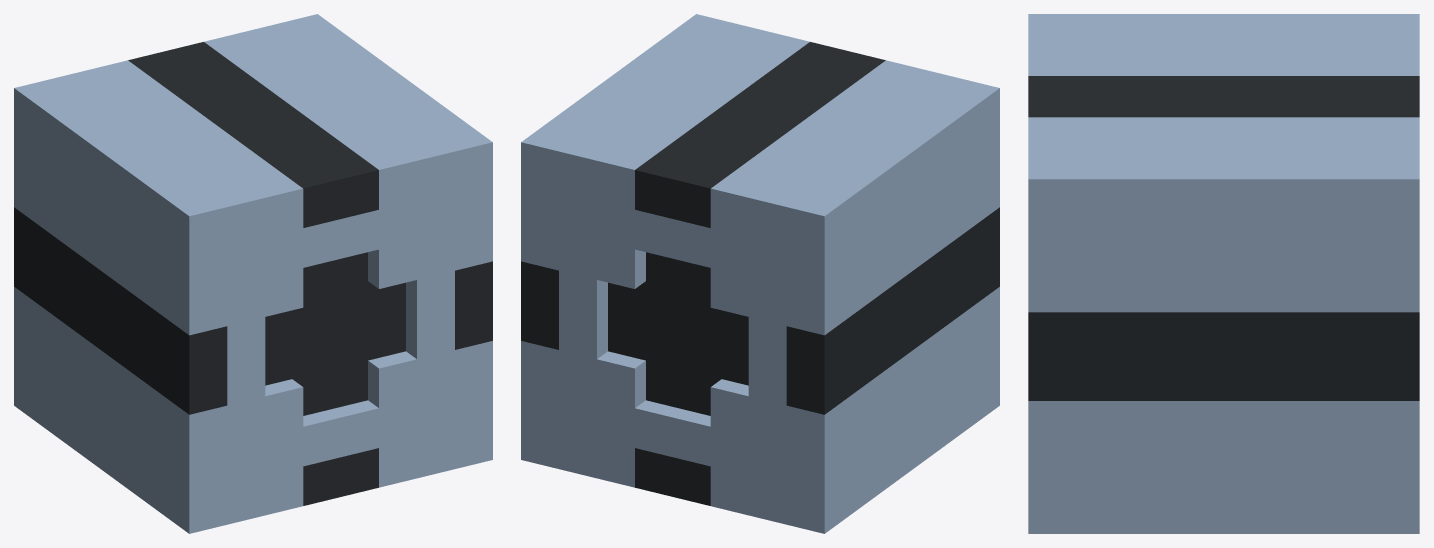
File: coal-block.glb
The picture shows the model from 3 angles, left to right: view 1: azimuth 30°, elevation 25°; view 2: azimuth 150°, elevation 25°; view 3: azimuth 270°, elevation 25°; orthographic projection. The views are drawn at different scales.
Parts seen in each view (by area): view 1: generated(Clone); view 2: generated(Clone); view 3: generated(Clone).
Part boxes in pixels (x1=…): generated(Clone): x1=14, y1=14, x2=492, y2=533; generated(Clone): x1=521, y1=14, x2=999, y2=533; generated(Clone): x1=1028, y1=14, x2=1419, y2=533.
Bounding box in the file's own units: 8 × 8 × 8.
1 material, 1 textured.
